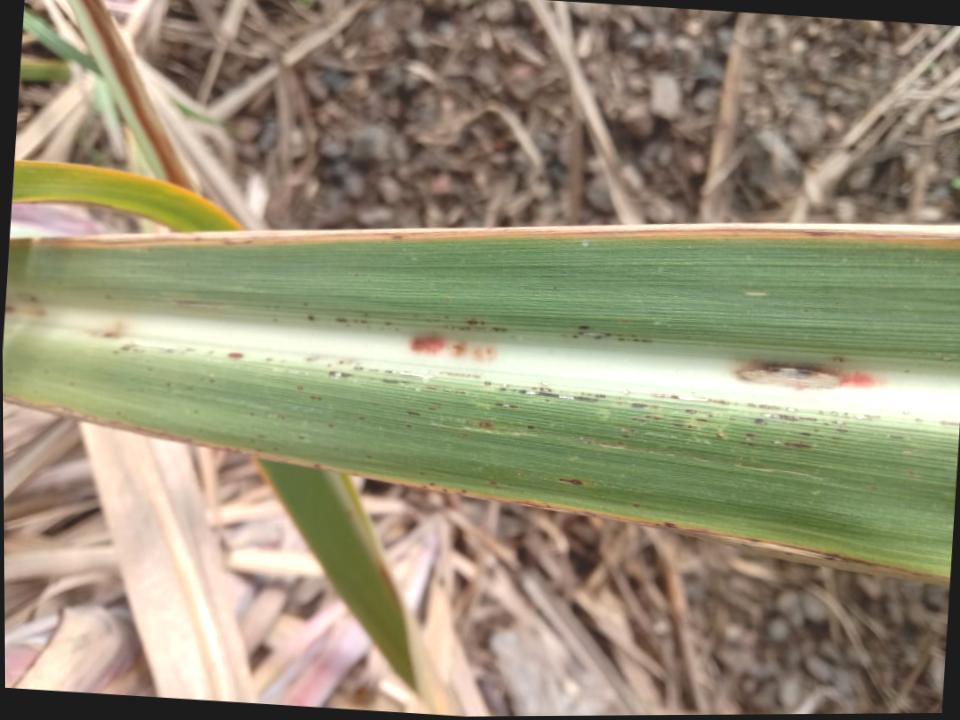RedRot: (734, 361, 881, 390), (410, 333, 446, 356), (473, 347, 496, 363), (451, 342, 466, 358)
Rust: (511, 387, 598, 403), (649, 391, 731, 406), (817, 409, 881, 422), (761, 412, 818, 423), (745, 400, 797, 412), (436, 370, 482, 380), (769, 439, 813, 449), (382, 376, 414, 385), (576, 330, 611, 338), (557, 476, 583, 486), (578, 390, 606, 398), (616, 337, 653, 343), (327, 370, 354, 378), (495, 400, 518, 409), (446, 326, 486, 331), (443, 388, 467, 395), (629, 400, 647, 409), (673, 422, 694, 429), (477, 419, 493, 428), (753, 416, 766, 427), (797, 429, 812, 438), (631, 416, 650, 423), (464, 319, 486, 325), (490, 326, 508, 333), (832, 427, 850, 434), (226, 351, 243, 358), (643, 415, 665, 420), (405, 410, 421, 416), (351, 318, 367, 324), (306, 314, 317, 322), (683, 408, 697, 414), (531, 387, 552, 391), (715, 430, 725, 438), (694, 416, 707, 422), (578, 324, 590, 330), (335, 316, 347, 322), (619, 433, 630, 439), (309, 395, 322, 400), (745, 432, 757, 437), (355, 416, 366, 421), (352, 366, 363, 371), (526, 424, 535, 430), (425, 386, 438, 390), (631, 502, 641, 507), (383, 368, 393, 373), (382, 321, 392, 326), (294, 385, 304, 390), (405, 423, 413, 429), (336, 359, 344, 365), (326, 423, 335, 428), (484, 380, 491, 386), (427, 406, 437, 410), (364, 454, 373, 458)
Yellow: (3, 392, 949, 584), (8, 224, 960, 249)
